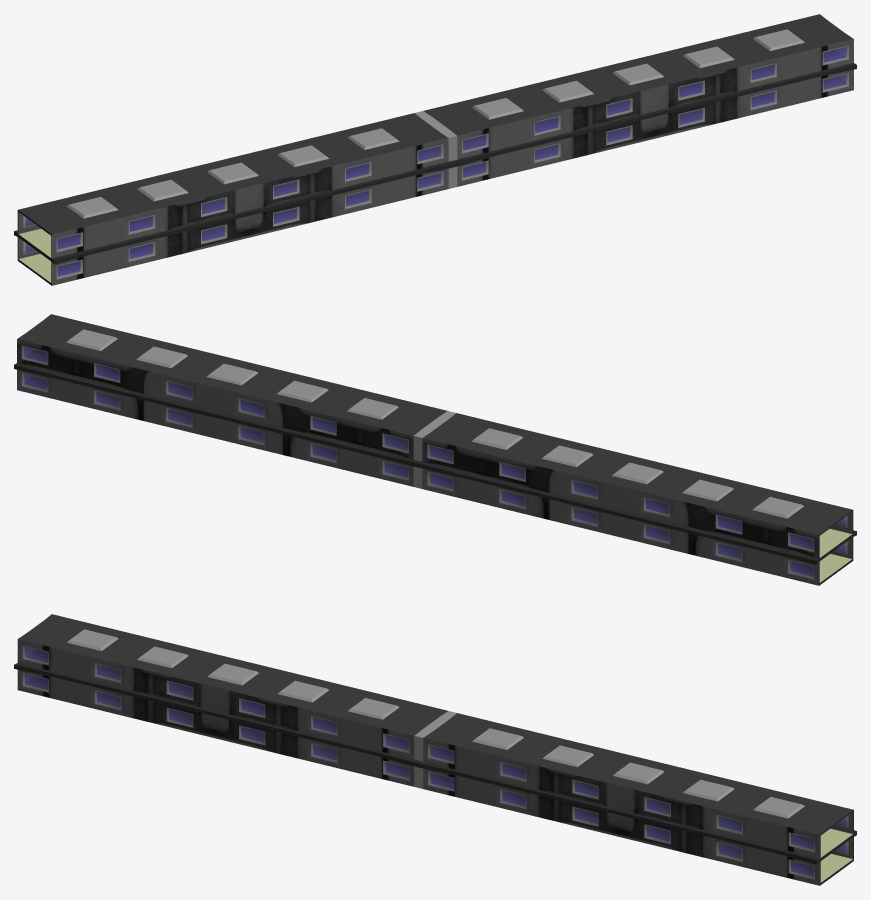
Rendered from Corridor-Large-Length.obj.
3 renders of one model, top to bottom at view 1: azimuth 30°, elevation 25°; view 2: azimuth 150°, elevation 25°; view 3: azimuth 330°, elevation 25°, orthographic.
Visible parts, largest first — view 1: Corridor_Large_Length; view 2: Corridor_Large_Length; view 3: Corridor_Large_Length.
Boxes of the visible parts, x1=… form: Corridor_Large_Length: x1=14, y1=14, x2=856, y2=285; Corridor_Large_Length: x1=14, y1=314, x2=856, y2=585; Corridor_Large_Length: x1=14, y1=614, x2=856, y2=885.
Size of the model in its own units: 16.82 by 1.1 by 1.47.
